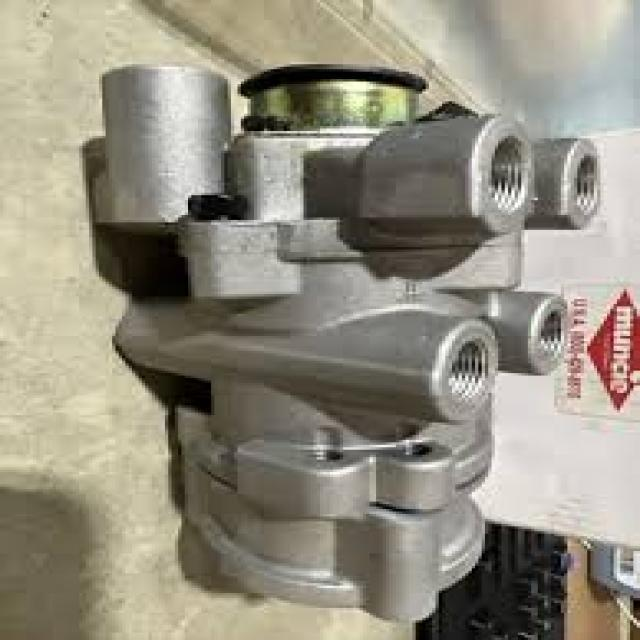video_frame: (83, 51, 606, 624)
